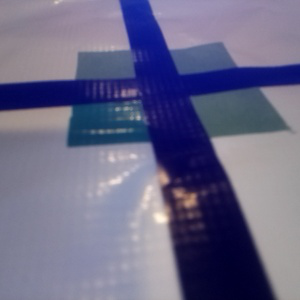bottom_left: (67, 79, 189, 147)
bottom_right: (152, 74, 291, 138)
top_left: (74, 50, 170, 99)
top_right: (137, 42, 238, 89)
